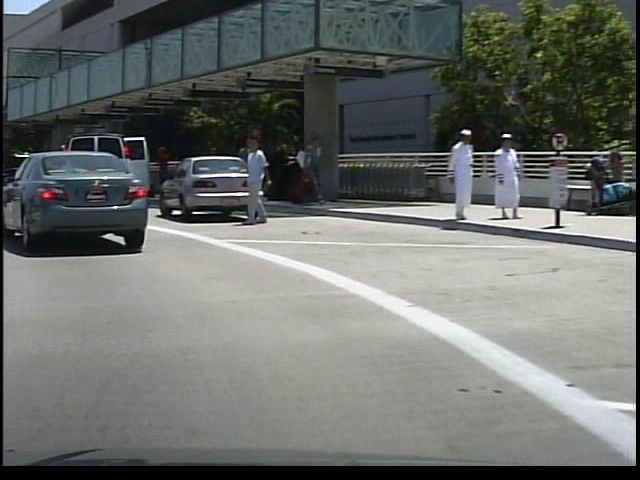person: (236, 131, 272, 230), (483, 129, 518, 221), (441, 125, 473, 221), (294, 132, 322, 208), (149, 141, 172, 205)
